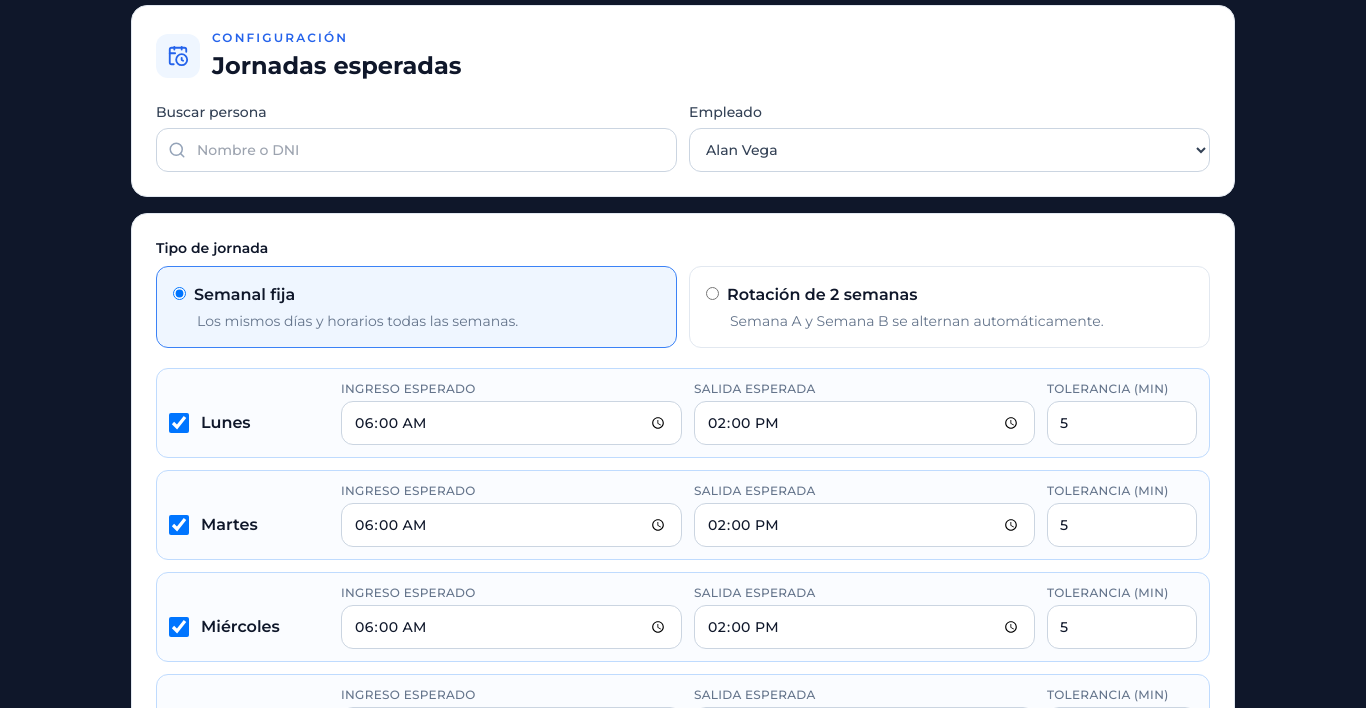
Test: ScheduleManagement › avisa por cambios pendientes y permite restablecer la jornada guardada
Step 1. Click the checkbox labelled "Lunes" → (179, 423), box top-left (169, 413), bottom-right (189, 433)
(page scrolled)
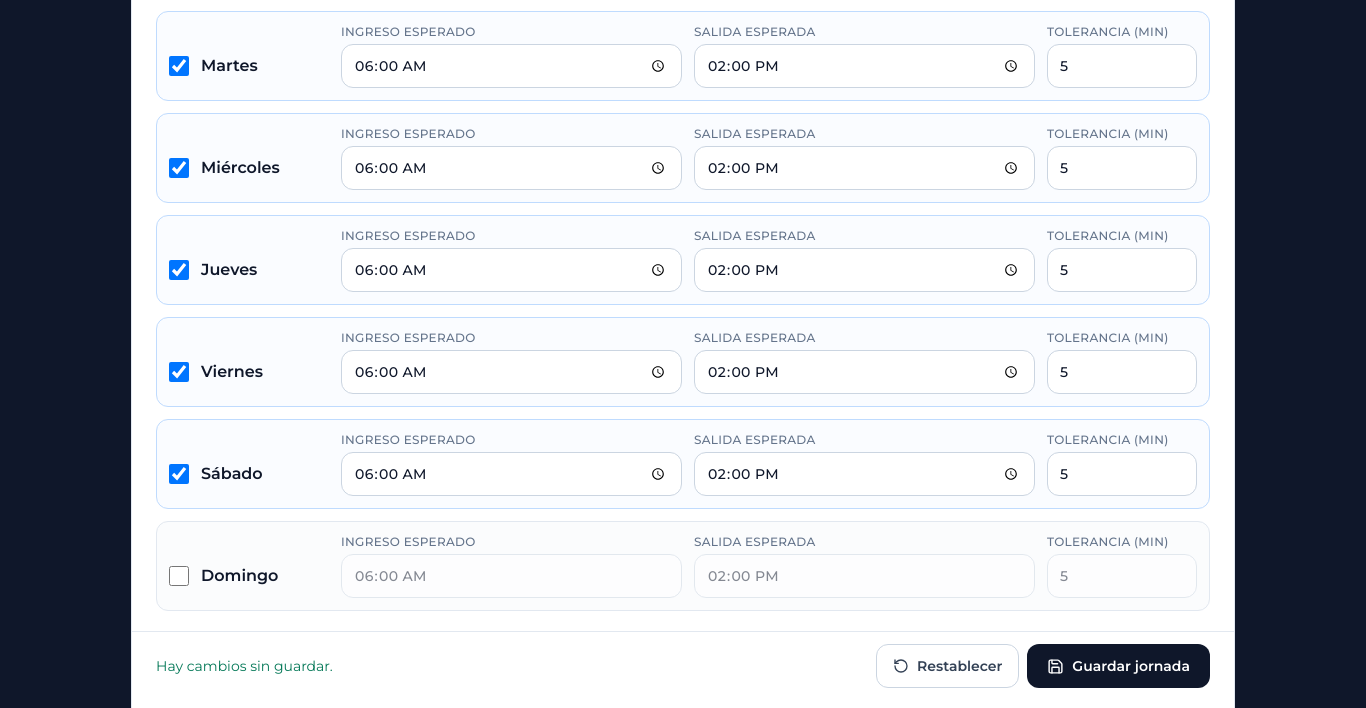
Result: the text "Hay cambios sin guardar." is shown at top-left (156, 656), bottom-right (333, 676)
Step 2. Click the button "Restablecer" → (948, 666), box top-left (876, 644), bottom-right (1019, 688)
(page scrolled)
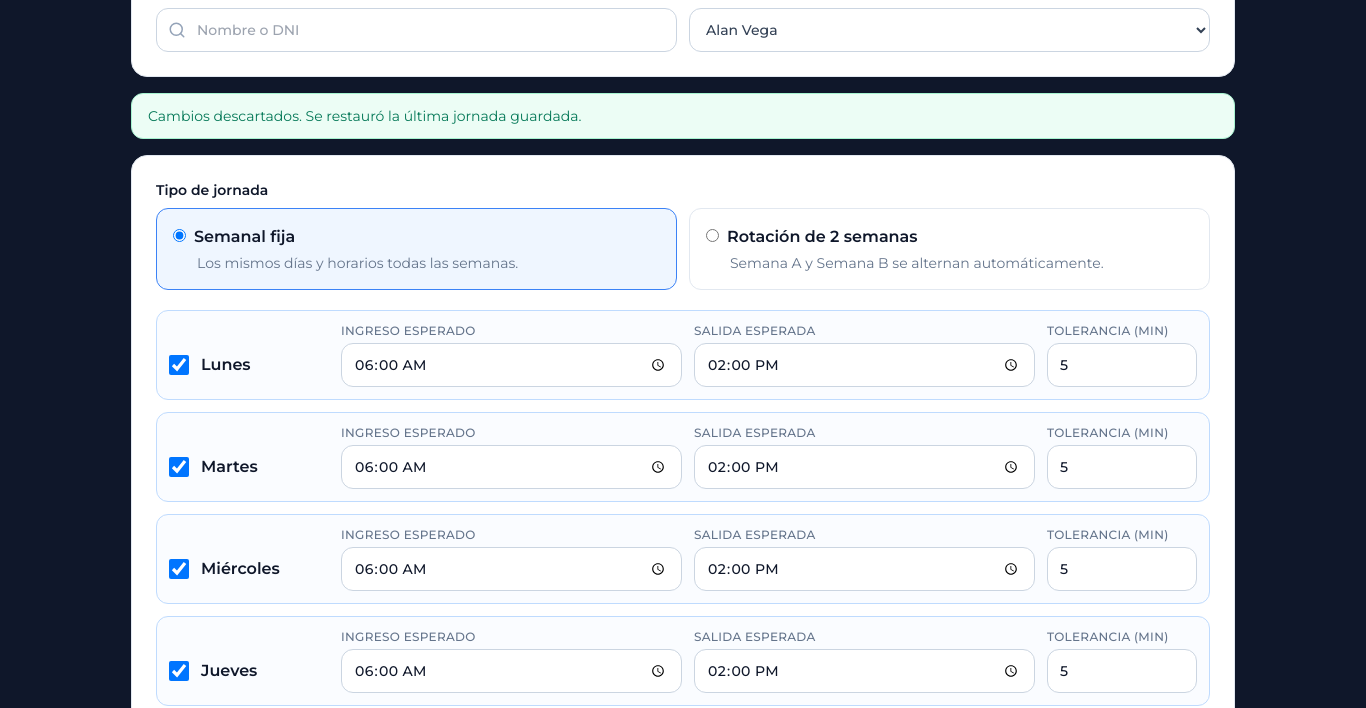
Result: the checkbox labelled "Lunes" is checked at top-left (169, 355), bottom-right (189, 375)
Result: the text "Se restauró la última jornada guardada." is shown at top-left (148, 107), bottom-right (581, 125)
